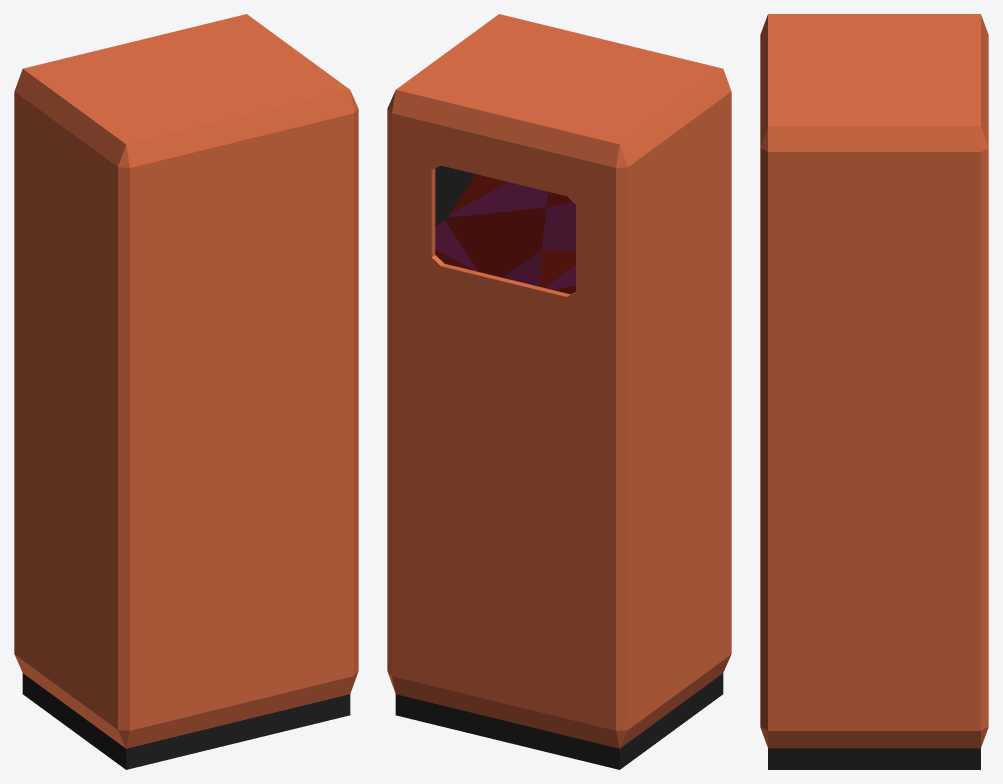
File: Trashbin.glb
The picture shows the model from 3 angles, left to right: view 1: azimuth 30°, elevation 25°; view 2: azimuth 150°, elevation 25°; view 3: azimuth 270°, elevation 25°; orthographic projection. The views are drawn at different scales.
Visible parts, largest first — view 1: Cube; view 2: Cube, Plane; view 3: Cube.
Part boxes in pixels (x1,y1,x2,y2): Cube: (14, 14, 358, 769); Cube: (387, 14, 731, 769); Plane: (435, 174, 575, 294); Cube: (760, 14, 988, 769).
Size of the model in its own units: 0.5 by 1.24 by 0.4.
